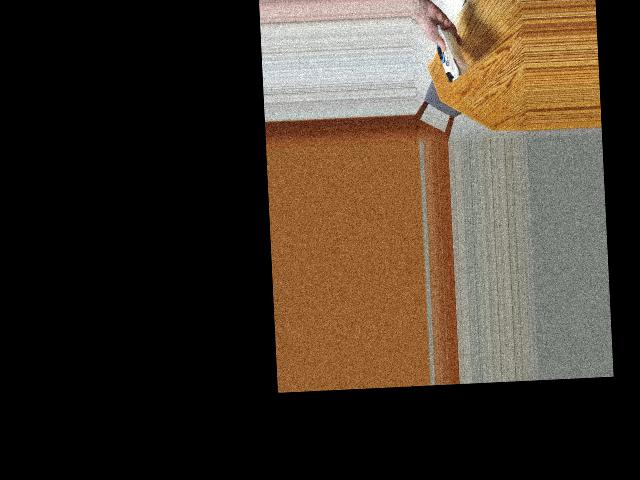cheese: (426, 28, 471, 80)
